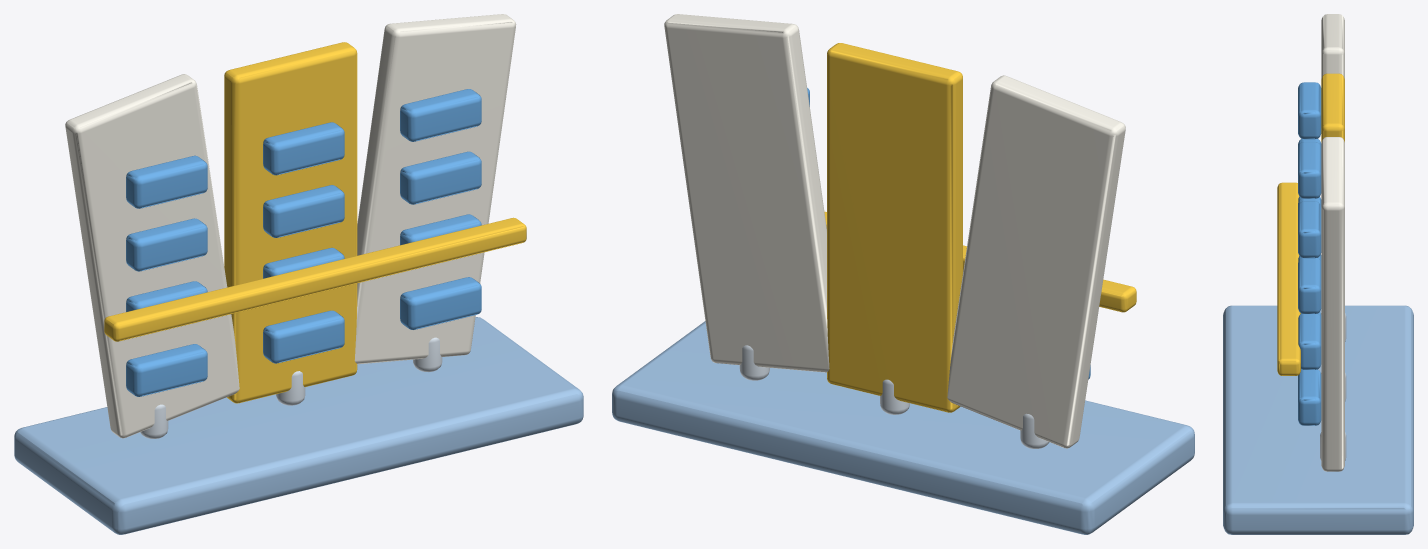
File: pcv_spreadsheet_grid_binder.glb
The picture shows the model from 3 angles, left to right: view 1: azimuth 30°, elevation 25°; view 2: azimuth 150°, elevation 25°; view 3: azimuth 270°, elevation 25°; orthographic projection. The views are drawn at different scales.
Parts seen in each view (by area): view 1: pcv_spreadsheet_grid_binder_MOBILE_JOINED; view 2: pcv_spreadsheet_grid_binder_MOBILE_JOINED; view 3: pcv_spreadsheet_grid_binder_MOBILE_JOINED.
Boxes of the visible parts, left/top/right/bottom form: pcv_spreadsheet_grid_binder_MOBILE_JOINED: left=14, top=14, right=583, bottom=534; pcv_spreadsheet_grid_binder_MOBILE_JOINED: left=612, top=14, right=1194, bottom=534; pcv_spreadsheet_grid_binder_MOBILE_JOINED: left=1223, top=14, right=1413, bottom=534.
Size of the model in its own units: 1.65 by 1.29 by 0.65.
